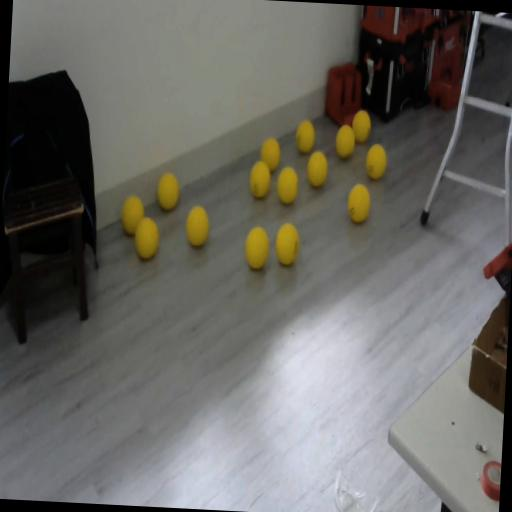FUEL: (132, 214, 161, 260), (244, 224, 270, 270), (184, 204, 211, 248), (274, 222, 300, 267), (346, 182, 372, 224), (276, 164, 300, 206), (156, 172, 180, 212), (248, 160, 272, 199), (259, 134, 282, 172), (365, 142, 387, 180), (306, 150, 328, 188), (334, 122, 356, 158), (295, 118, 316, 154), (351, 109, 372, 143)
